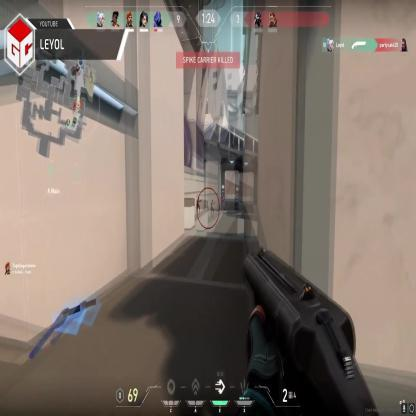enemy: (196, 195, 200, 215), (210, 199, 214, 219)
enemy_head: (198, 197, 200, 200), (212, 200, 213, 204)
